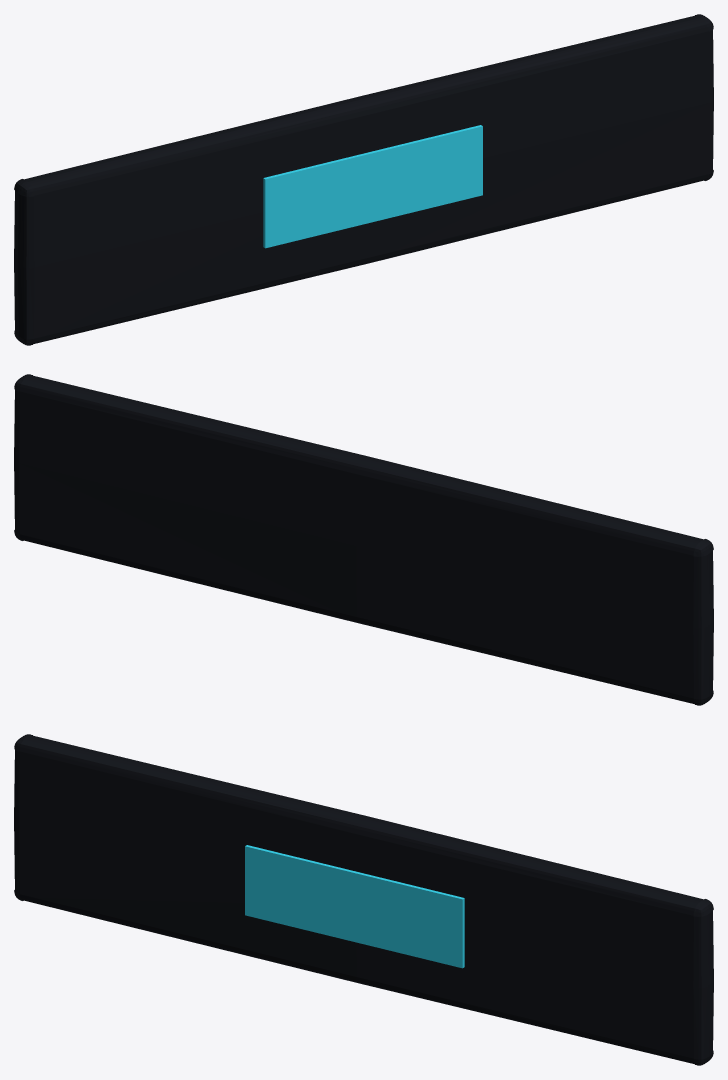
The model's file is 28_PS_Table_FrontStatusAndBrandPlate.fbx.
The picture shows the model from 3 angles, top to bottom: view 1: azimuth 30°, elevation 25°; view 2: azimuth 150°, elevation 25°; view 3: azimuth 330°, elevation 25°; orthographic projection.
Parts seen in each view (by area): view 1: PS_Table_FrontStatusAndBrandPlate; view 2: PS_Table_FrontStatusAndBrandPlate; view 3: PS_Table_FrontStatusAndBrandPlate.
Part boxes in pixels (x1,y1,x2,y2): PS_Table_FrontStatusAndBrandPlate: (14, 14, 713, 345); PS_Table_FrontStatusAndBrandPlate: (14, 374, 713, 705); PS_Table_FrontStatusAndBrandPlate: (14, 734, 713, 1065).
Bounding box in the file's own units: 210 × 47 × 9.3.
